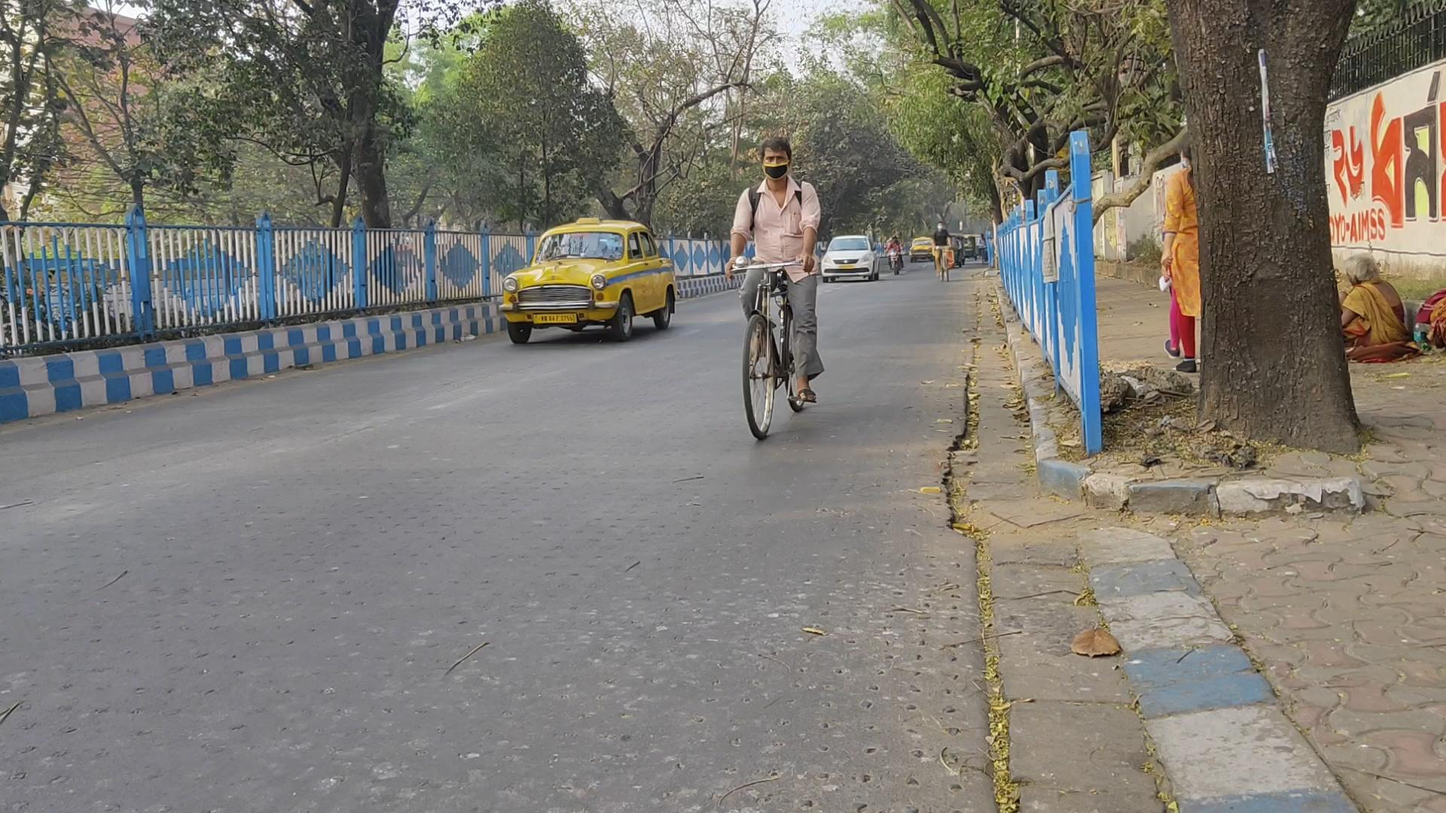bike: (728, 137, 821, 440), (932, 221, 955, 283), (883, 235, 906, 275)
car: (502, 217, 676, 342), (819, 233, 879, 285), (909, 236, 935, 263)
